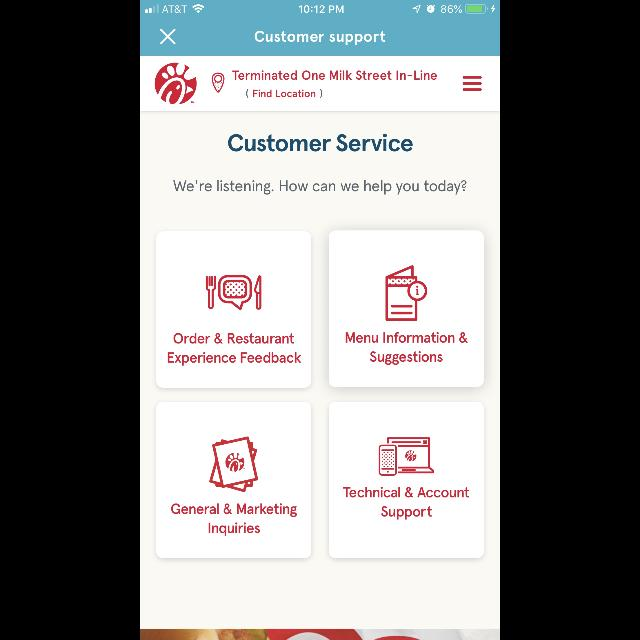icon: (462, 76, 482, 92), (212, 73, 224, 93), (160, 30, 176, 44)
image: (210, 437, 258, 493), (385, 265, 427, 321), (380, 438, 434, 477), (206, 276, 262, 310), (155, 63, 197, 105)
text: (174, 180, 466, 196), (168, 332, 302, 366), (343, 486, 469, 520), (346, 332, 468, 366), (171, 504, 297, 536), (228, 134, 412, 152), (254, 30, 386, 46), (233, 71, 437, 81), (246, 90, 322, 98)
uppertaskbar: (140, 0, 500, 14)
